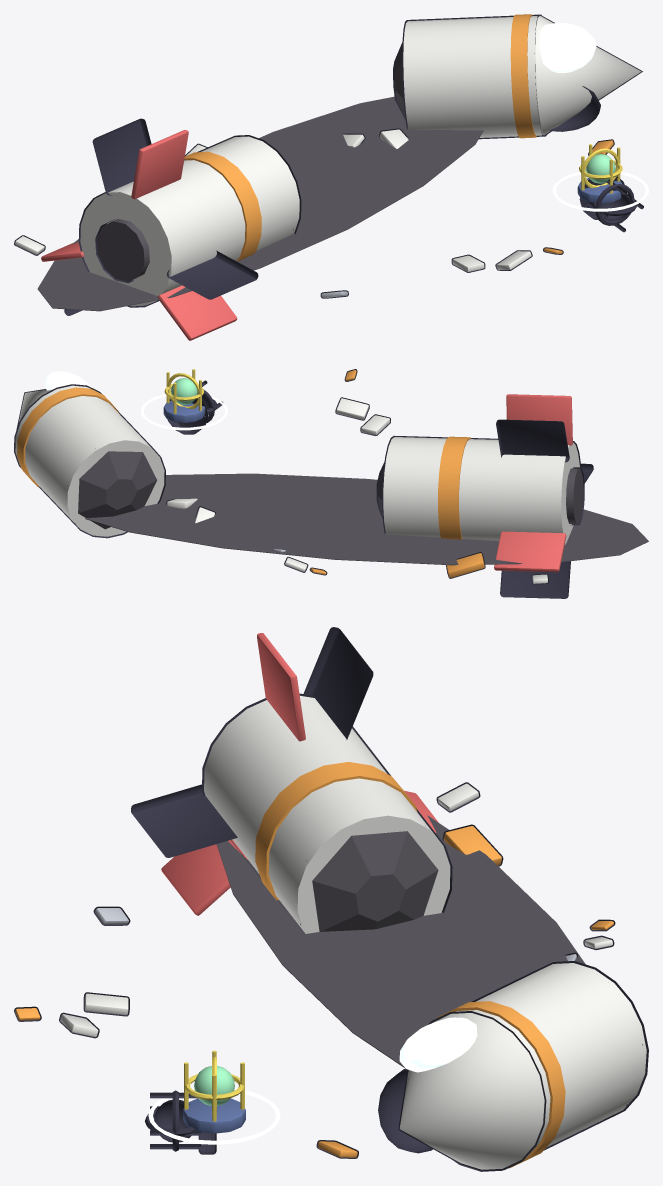
The model's file is Zona_NaveRota.fbx.
3 views of the same model, one above another, from view 1: azimuth 30°, elevation 25°; view 2: azimuth 150°, elevation 25°; view 3: azimuth 270°, elevation 25° (orthographic). The views are drawn at different scales.
Parts seen in each view (by area): view 1: Surco_Quemado, Cola_Fuselaje, Proa_Fuselaje, Proa_Nariz, Cola_Aleta2_Contorno, Cola_SinMotor, Cola_Aleta0, Cola_Aleta1, Proa_Cabina, Cola_Aleta0_Contorno, Cola_Franja, Proa_Franja (+8 smaller); view 2: Surco_Quemado, Cola_Fuselaje, Proa_Fuselaje, Proa_Rotura, Cola_Aleta2, Cola_Aleta2_Contorno, Cola_Franja, Cola_Aleta0, Cola_Aleta1_Contorno, Proa_Franja, Cola_SinMotor, Proa_Fuselaje_Contorno (+9 smaller); view 3: Surco_Quemado, Cola_Fuselaje, Proa_Fuselaje, Proa_Nariz, Cola_Rotura, Cola_Aleta0_Contorno, Cola_Aleta2_Contorno, Cola_Franja, Proa_Franja, Cola_Aleta1, Proa_Cabina, Cola_Aleta0 (+9 smaller).
Part boxes in pixels (x1=…): Surco_Quemado: x1=37, y1=96, x2=483, y2=311; Cola_Fuselaje: x1=80, y1=136, x2=299, y2=306; Proa_Fuselaje: x1=403, y1=16, x2=543, y2=137; Proa_Nariz: x1=535, y1=16, x2=641, y2=134; Cola_Aleta2_Contorno: x1=92, y1=118, x2=151, y2=195; Cola_SinMotor: x1=97, y1=219, x2=149, y2=281; Cola_Aleta0: x1=131, y1=130, x2=188, y2=199; Cola_Aleta1: x1=157, y1=285, x2=237, y2=340; Proa_Cabina: x1=539, y1=22, x2=596, y2=72; Cola_Aleta0_Contorno: x1=167, y1=250, x2=258, y2=299; Cola_Franja: x1=184, y1=151, x2=261, y2=261; Proa_Franja: x1=510, y1=14, x2=536, y2=138; Surco_Quemado: x1=85, y1=473, x2=648, y2=565; Cola_Fuselaje: x1=383, y1=437, x2=579, y2=544; Proa_Fuselaje: x1=15, y1=385, x2=164, y2=536; Proa_Rotura: x1=78, y1=451, x2=157, y2=529; Cola_Aleta2: x1=494, y1=531, x2=566, y2=572; Cola_Aleta2_Contorno: x1=496, y1=419, x2=569, y2=462; Cola_Franja: x1=438, y1=436, x2=470, y2=539; Cola_Aleta0: x1=506, y1=394, x2=572, y2=445; Cola_Aleta1_Contorno: x1=500, y1=561, x2=570, y2=598; Proa_Franja: x1=17, y1=387, x2=118, y2=486; Cola_SinMotor: x1=566, y1=468, x2=583, y2=524; Proa_Fuselaje_Contorno: x1=14, y1=384, x2=165, y2=538; Surco_Quemado: x1=216, y1=815, x2=585, y2=1068; Cola_Fuselaje: x1=204, y1=695, x2=450, y2=933; Proa_Fuselaje: x1=452, y1=963, x2=646, y2=1159; Proa_Nariz: x1=399, y1=1013, x2=543, y2=1169; Cola_Rotura: x1=312, y1=831, x2=438, y2=931; Cola_Aleta0_Contorno: x1=131, y1=784, x2=237, y2=857; Cola_Aleta2_Contorno: x1=303, y1=627, x2=373, y2=739; Cola_Franja: x1=255, y1=762, x2=417, y2=900; Proa_Franja: x1=436, y1=1001, x2=565, y2=1168; Cola_Aleta1: x1=161, y1=839, x2=247, y2=915; Proa_Cabina: x1=399, y1=1017, x2=477, y2=1072; Cola_Aleta0: x1=257, y1=633, x2=305, y2=741.
Bounding box in the file's own units: 22.19 × 6.29 × 13.93.
